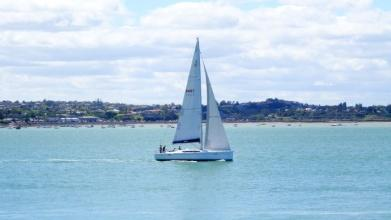fanchuan: (146, 38, 254, 164)
